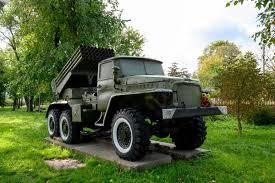MIL_SAM_TEL: (42, 45, 210, 161)
